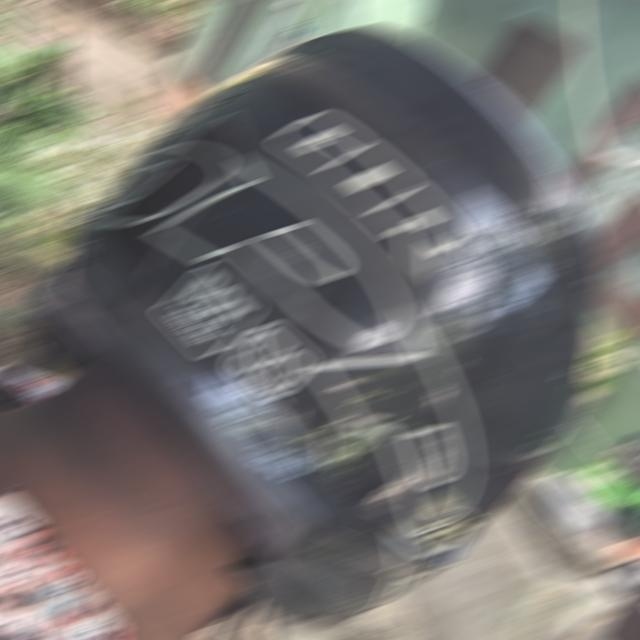With Helmet: (29, 21, 607, 634)
